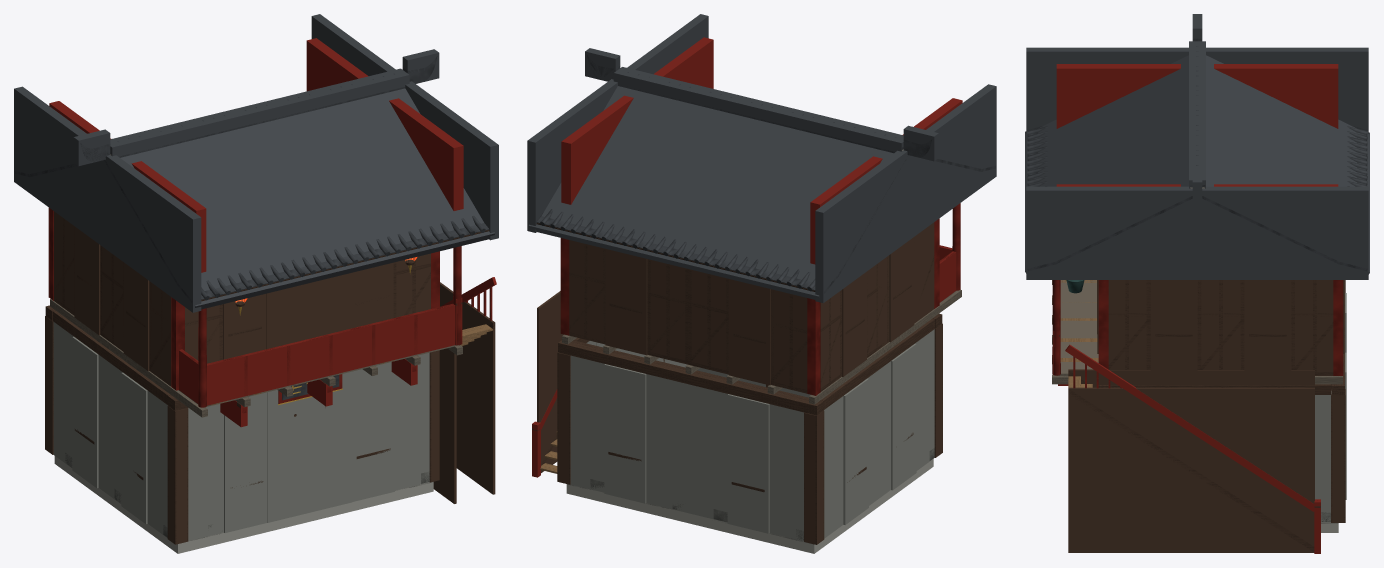
Rendered from kit_two_storey_stone.gltf.
3 views of the same model, side by side, from view 1: azimuth 30°, elevation 25°; view 2: azimuth 150°, elevation 25°; view 3: azimuth 270°, elevation 25° (orthographic). The views are drawn at different scales.
Visible parts, largest first — view 1: Far, Near, Detail; view 2: Far, Near; view 3: Far, Near.
Part boxes in pixels (<box>): Far: <box>14,14,498,553</box>; Near: <box>14,56,495,544</box>; Detail: <box>235,257,417,405</box>; Far: <box>527,14,996,553</box>; Near: <box>532,55,995,544</box>; Far: <box>1025,14,1369,553</box>; Near: <box>1027,38,1367,552</box>.
Size of the model in its own units: 8.49 by 8.81 by 7.34.
Materials: 25 (24 with a texture image).
